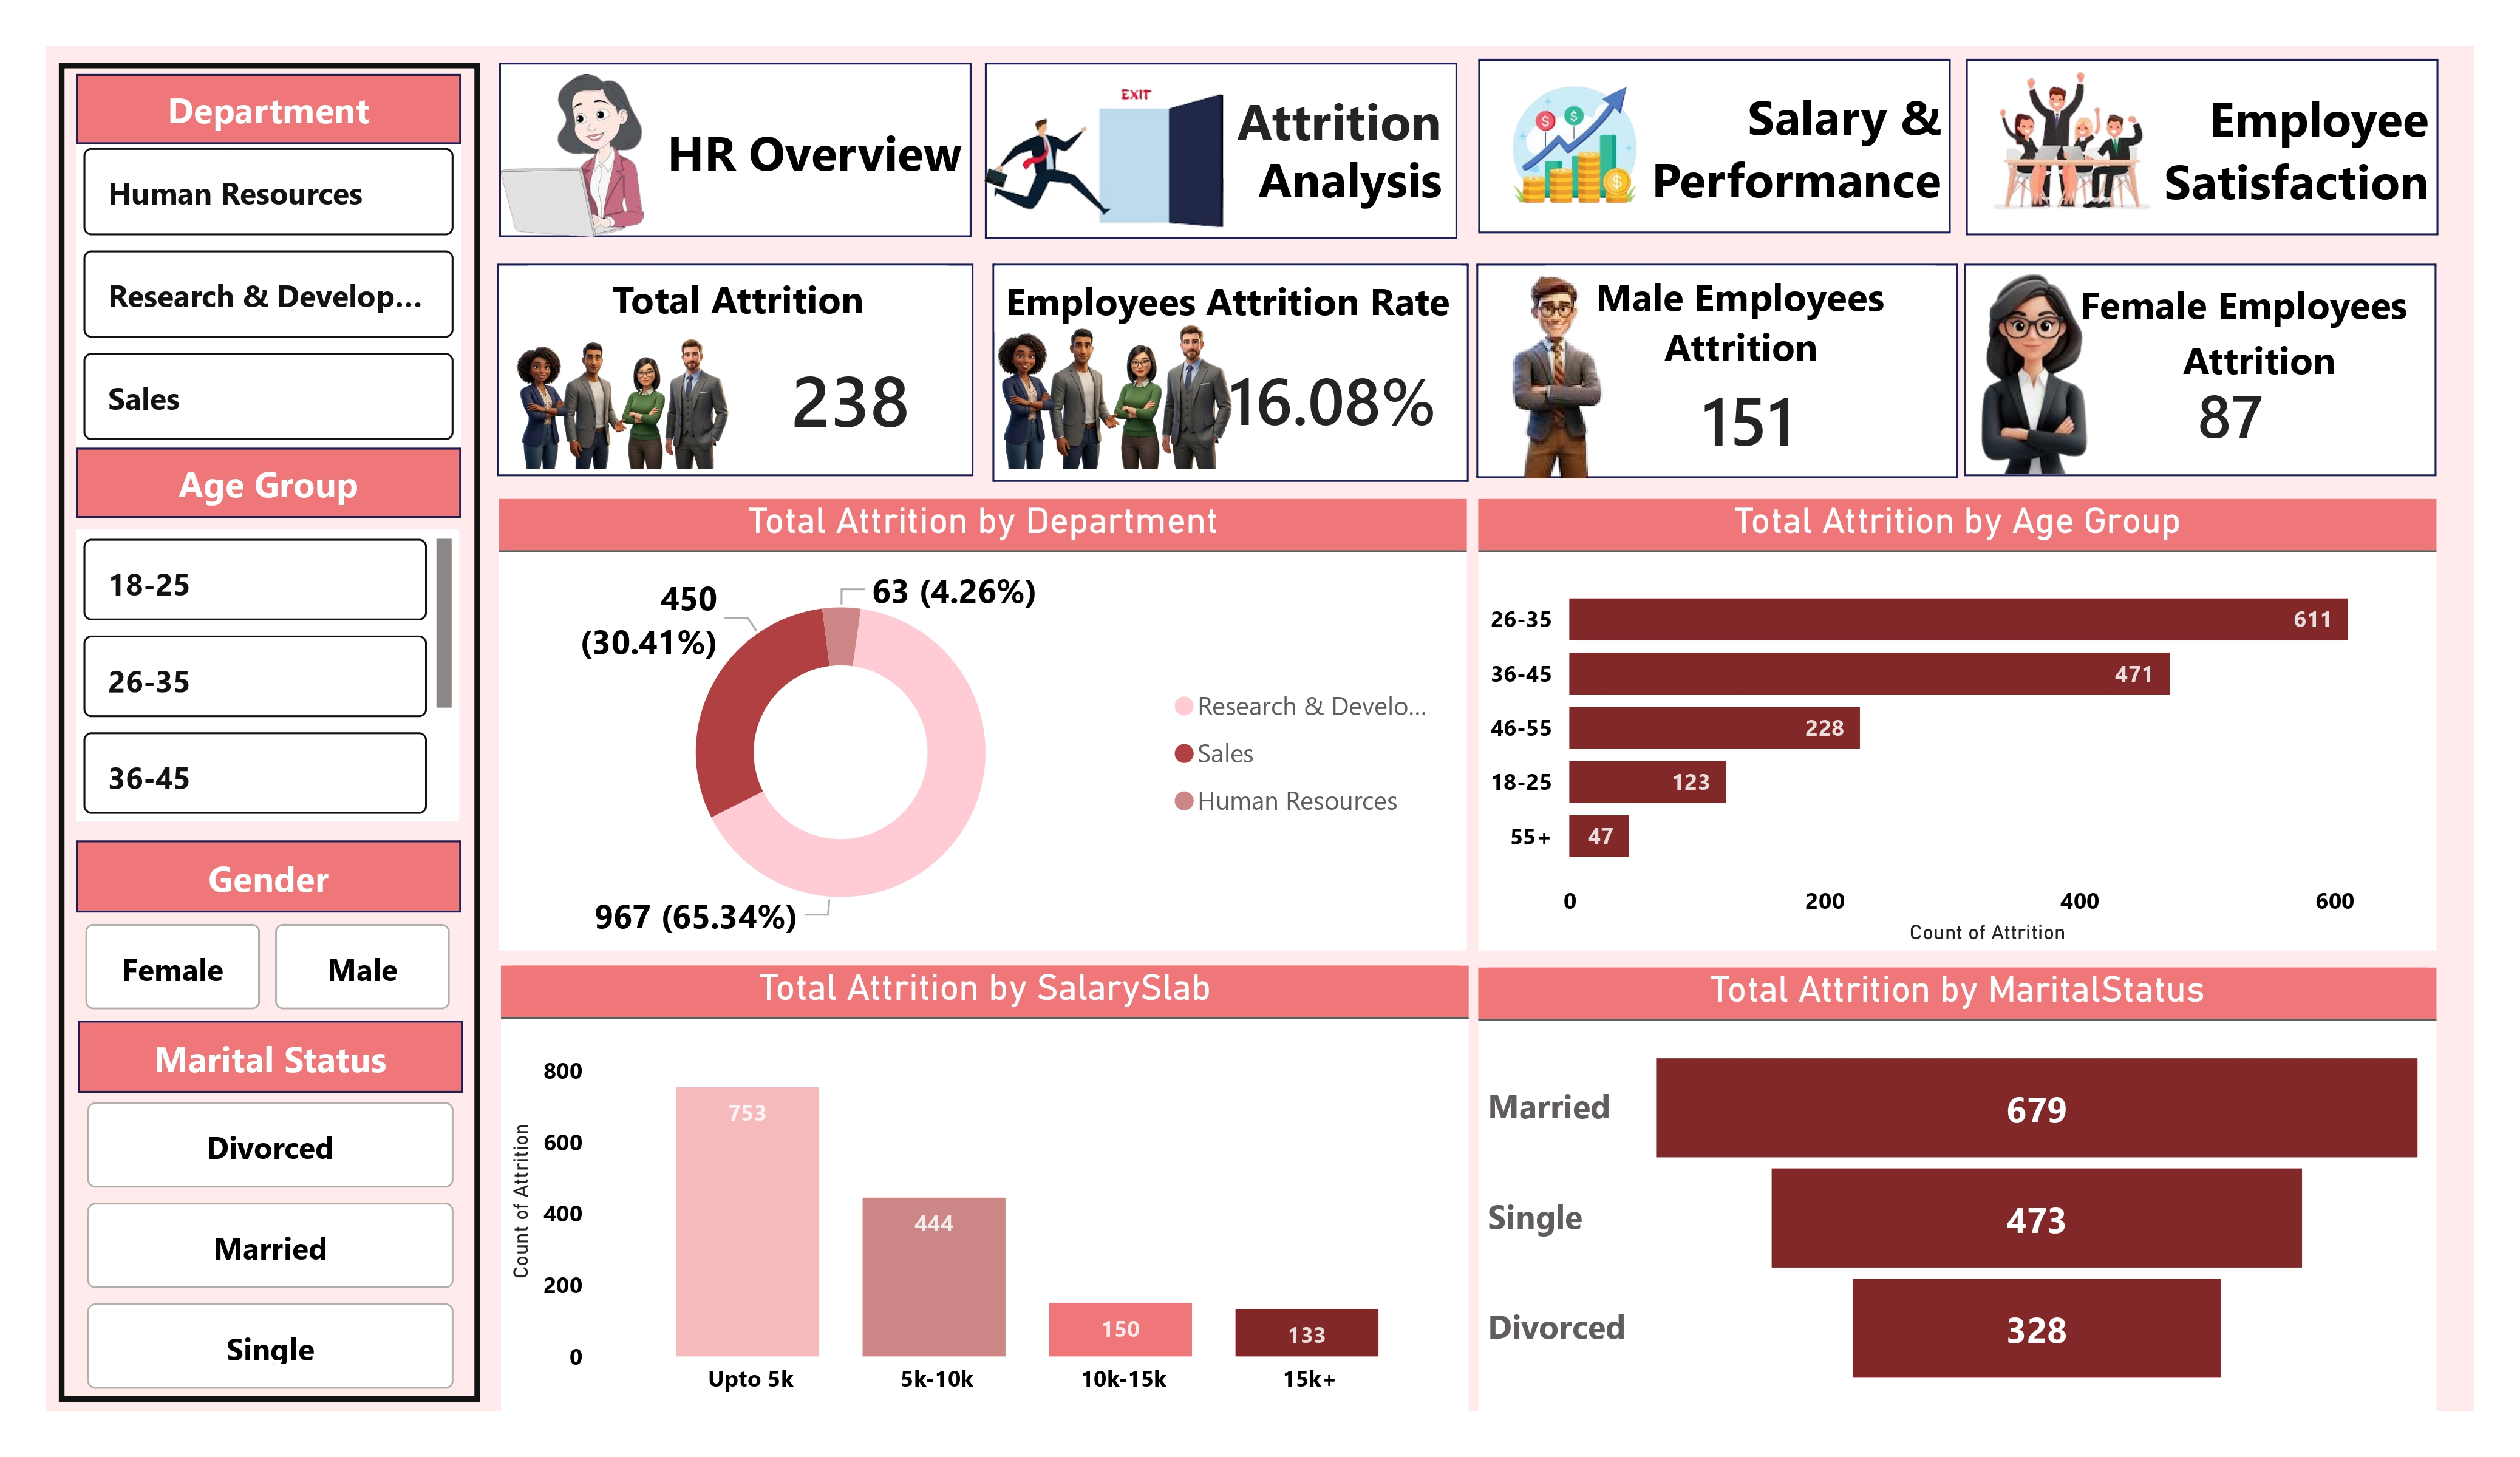

The dashboard page shown, as its layout file describes it:
{"tool":"powerbi","page":{"name":"Attrition Analysis","canvas":[1280,720],"ordinal":1},"visuals":[{"type":"shape","box":[7.2,8.6,221.8,705.6],"z":0,"group":"g6"},{"type":"shape","box":[1011,115,249,112],"z":0,"group":"g7"},{"type":"shape","box":[237.6,115.2,251,112.3],"z":0,"group":"g1"},{"type":"shape","box":[239,8.6,249.1,92.2],"z":1000,"group":"g5"},{"type":"donutChart","title":"Total Attrition by Department","fields":{"Category":["HR_Analytics.Department"],"Y":["CountNonNull(HR_Analytics.Attrition)"]},"box":[239,239,509.8,237.6],"z":1000},{"type":"shape","box":[754.4,7.1,249.1,92.2],"z":2000,"group":"g8"},{"type":"shape","box":[498.8,115.4,250.6,115.2],"z":2000,"group":"g2"},{"type":"cardVisual","title":"Total Employees","fields":{"Data":["HR_Analytics.TotalAttrition"]},"box":[375.8,150.5,99.4,69.2],"z":2000,"group":"g1"},{"type":"barChart","title":"Total Attrition by Age Group","fields":{"Category":["HR_Analytics.AgeGroup"],"Y":["CountNonNull(HR_Analytics.Attrition)"]},"box":[754.6,239,505.4,237.6],"z":2000},{"type":"shape","box":[1012.1,7.2,249.1,93.6],"z":3000,"group":"g4"},{"type":"clusteredColumnChart","title":"Total Attrition by SalarySlab","fields":{"Category":["HR_Analytics.SalarySlab"],"Y":["CountNonNull(HR_Analytics.Attrition)"]},"box":[240.5,485.3,509.8,234.7],"z":3000},{"type":"shape","box":[494.9,8.6,249.1,93.6],"z":4000,"group":"g3"},{"type":"funnel","title":"Total Attrition by MaritalStatus","fields":{"Category":["HR_Analytics.MaritalStatus"],"Y":["CountNonNull(HR_Analytics.Attrition)"]},"box":[754.7,485.7,505.5,234.5],"z":4000},{"type":"group","id":"g1","title":"Group 1","box":[201.6,115.2,286.6,112.3],"z":5000},{"type":"cardVisual","title":"Total Employees","fields":{"Data":["HR_Analytics.AttritionRate"]},"box":[600.5,156.9,144,56.2],"z":5000,"group":"g2"},{"type":"group","id":"g2","title":"Group 2","box":[460.8,115.4,288.6,115.2],"z":6000},{"type":"advancedSlicerVisual","fields":{"Values":["HR_Analytics.Department"]},"box":[15.8,48.9,203,162.7],"z":8000,"group":"g6"},{"type":"group","id":"g3","title":"Group 4","box":[476.2,2.8,286.3,112],"z":9000},{"type":"shape","box":[15.8,14.4,203,37],"z":9000,"group":"g6"},{"type":"group","id":"g4","title":"Group 6","box":[1003.5,4.3,258,96.4],"z":10000},{"type":"advancedSlicerVisual","fields":{"Values":["HR_Analytics.AgeGroup"]},"box":[15.7,254.2,202.9,154.3],"z":10000,"group":"g6"},{"type":"shape","box":[754.4,114.8,253.3,112.8],"z":11000},{"type":"shape","box":[499.7,116.6,246.2,34.6],"z":11000,"group":"g2"},{"type":"shape","box":[15.8,211.6,203,37.4],"z":11000,"group":"g6"},{"type":"group","id":"g5","title":"Group 8","box":[208.8,8.6,279.4,92.2],"z":12000},{"type":"advancedSlicerVisual","fields":{"Values":["HR_Analytics.Gender"]},"box":[15.8,457.9,203,54.7],"z":12000,"group":"g6"},{"type":"group","id":"g6","title":"Group 9","box":[7.2,8.6,221.8,705.6],"z":13000},{"type":"image","box":[201.6,141.3,198.7,82.3],"z":13000,"group":"g1"},{"type":"shape","box":[15.8,419,203,37.4],"z":13000,"group":"g6"},{"type":"shape","box":[253.4,116.5,221.8,31.3],"z":14000,"group":"g1"},{"type":"advancedSlicerVisual","fields":{"Values":["HR_Analytics.MaritalStatus"]},"box":[17.1,551.4,202.9,162.9],"z":14000,"group":"g6"},{"type":"cardVisual","title":"Total Employees","fields":{"Data":["HR_Analytics.Male_Attrition"]},"box":[841.9,165.8,110.9,57.6],"z":15000},{"type":"shape","box":[17.3,514,203,37.4],"z":15000,"group":"g6"},{"type":"shape","box":[789.5,116.1,206.4,31.1],"z":16000},{"type":"image","box":[208.8,14.4,136.8,86.4],"z":17000,"group":"g5"},{"type":"cardVisual","title":"Total Employees","fields":{"Data":["HR_Analytics.Female_Attrition"]},"box":[1121.8,165.6,69.1,53.3],"z":17000,"group":"g7"},{"type":"shape","box":[1067.1,119.1,182.9,30.1],"z":18000,"group":"g7"},{"type":"image","box":[728.5,11.4,154.1,83.5],"z":22000,"group":"g8"},{"type":"image","box":[1003.5,4.3,129.6,92.2],"z":23000,"group":"g4"},{"type":"image","box":[476.2,2.8,164.2,112.3],"z":24000,"group":"g3"},{"type":"image","box":[460.8,132.4,198.7,90.7],"z":24500,"group":"g2"},{"type":"textbox","box":[623.1,15.8,139.7,57.6],"z":25000,"group":"g3"},{"type":"image","box":[992.2,111.6,110.9,116.6],"z":27000,"group":"g7"},{"type":"shape","box":[802.7,142,131.8,29.8],"z":28000},{"type":"shape","box":[1077.2,149.7,129.6,28.8],"z":29000,"group":"g7"},{"type":"image","box":[744.1,110.9,108.3,116.6],"z":30000},{"type":"group","id":"g7","title":"Group 3","box":[992.2,111.6,267.8,116.6],"z":30001},{"type":"group","id":"g8","title":"Group 5","box":[728.5,7.1,275,92.2],"z":30002}]}

Visuals, with their boxes on the page's 1280x720 design canvas (x1, y1, x2, y2). These are canvas units, not pixel positions in the 2520x1457 screenshot, which may show the page scaled, cropped or inside an application window:
shape: box=[7, 9, 229, 714]
shape: box=[1011, 115, 1260, 227]
shape: box=[238, 115, 489, 228]
shape: box=[239, 9, 488, 101]
"Total Attrition by Department" donutChart: box=[239, 239, 749, 477]
shape: box=[754, 7, 1004, 99]
shape: box=[499, 115, 749, 231]
"Total Employees" cardVisual: box=[376, 150, 475, 220]
"Total Attrition by Age Group" barChart: box=[755, 239, 1260, 477]
shape: box=[1012, 7, 1261, 101]
"Total Attrition by SalarySlab" clusteredColumnChart: box=[240, 485, 750, 720]
shape: box=[495, 9, 744, 102]
"Total Attrition by MaritalStatus" funnel: box=[755, 486, 1260, 720]
"Group 1" group: box=[202, 115, 488, 228]
"Total Employees" cardVisual: box=[600, 157, 744, 213]
"Group 2" group: box=[461, 115, 749, 231]
advancedSlicerVisual - HR_Analytics.Department: box=[16, 49, 219, 212]
"Group 4" group: box=[476, 3, 762, 115]
shape: box=[16, 14, 219, 51]
"Group 6" group: box=[1004, 4, 1262, 101]
advancedSlicerVisual - HR_Analytics.AgeGroup: box=[16, 254, 219, 408]
shape: box=[754, 115, 1008, 228]
shape: box=[500, 117, 746, 151]
shape: box=[16, 212, 219, 249]
"Group 8" group: box=[209, 9, 488, 101]
advancedSlicerVisual - HR_Analytics.Gender: box=[16, 458, 219, 513]
"Group 9" group: box=[7, 9, 229, 714]
image: box=[202, 141, 400, 224]
shape: box=[16, 419, 219, 456]
shape: box=[253, 116, 475, 148]
advancedSlicerVisual - HR_Analytics.MaritalStatus: box=[17, 551, 220, 714]
"Total Employees" cardVisual: box=[842, 166, 953, 223]
shape: box=[17, 514, 220, 551]
shape: box=[790, 116, 996, 147]
image: box=[209, 14, 346, 101]
"Total Employees" cardVisual: box=[1122, 166, 1191, 219]
shape: box=[1067, 119, 1250, 149]
image: box=[728, 11, 883, 95]
image: box=[1004, 4, 1133, 96]
image: box=[476, 3, 640, 115]
image: box=[461, 132, 660, 223]
textbox: box=[623, 16, 763, 73]
image: box=[992, 112, 1103, 228]
shape: box=[803, 142, 934, 172]
shape: box=[1077, 150, 1207, 178]
image: box=[744, 111, 852, 228]
"Group 3" group: box=[992, 112, 1260, 228]
"Group 5" group: box=[728, 7, 1004, 99]
